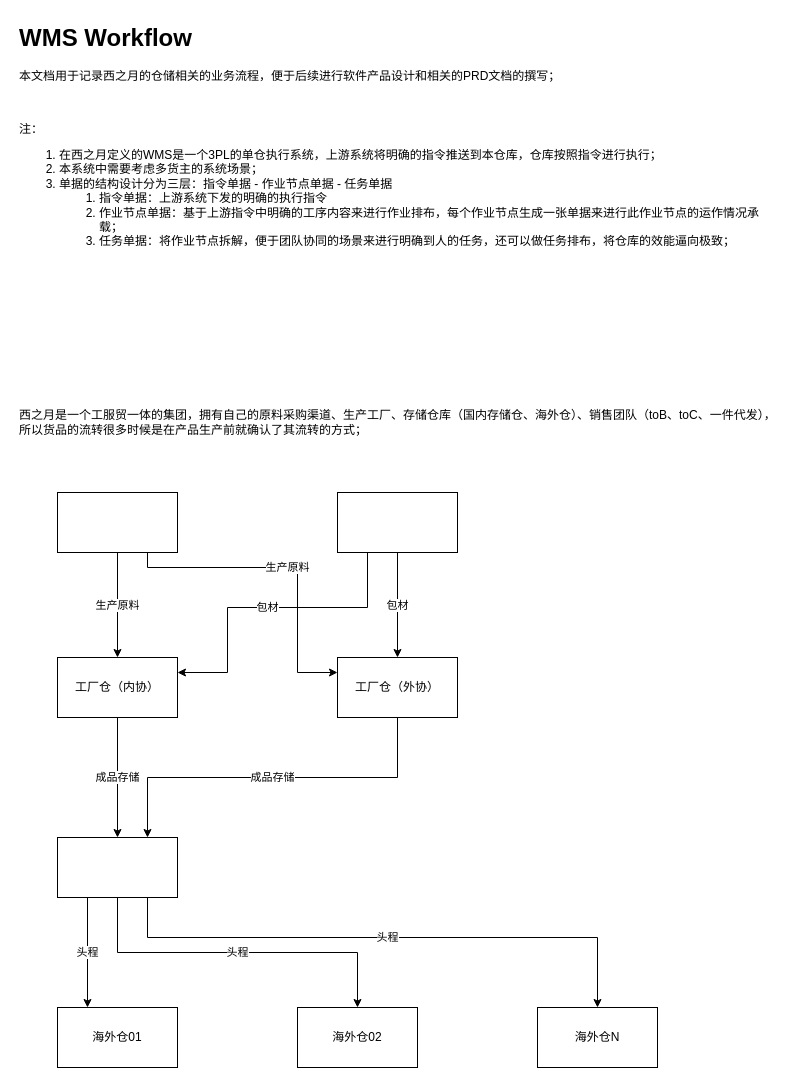
Image size: 794x1085. Some labels were removed from this diagram. The shapes that lost their labels are listed below. From the top down, each one's box as (x1, y1, x2, y2) in pixels, then its label:
(56, 492, 178, 552): 原料仓
(336, 492, 458, 552): 物料仓
(56, 836, 178, 898): 皓物仓
